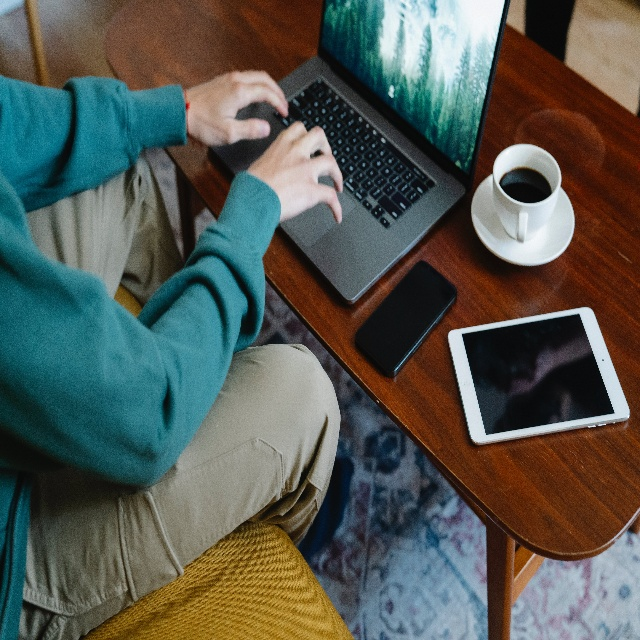Sin_guantes: (251, 116, 342, 233), (188, 63, 289, 151)
